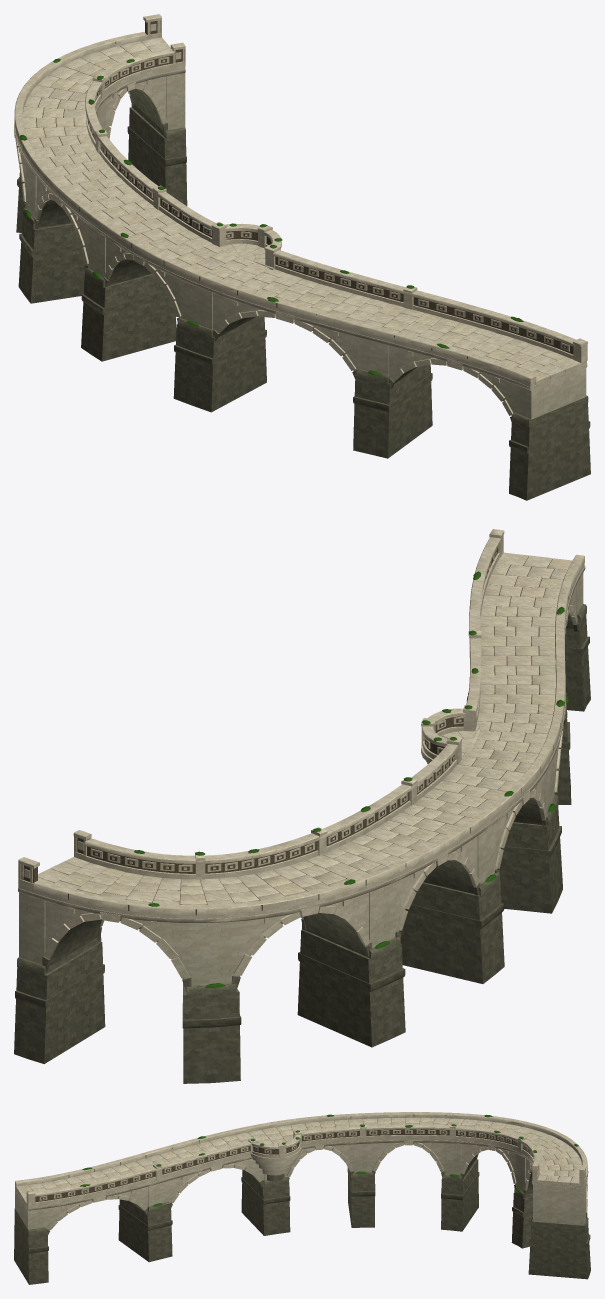
3 views of the same model, one above another, from view 1: azimuth 30°, elevation 25°; view 2: azimuth 150°, elevation 25°; view 3: azimuth 270°, elevation 25° (orthographic). The views are drawn at different scales.
Visible parts, largest first — view 1: Mesh_ViaductLimestone, Mesh_ViaductDampMasonry, Mesh_ViaductCarvedGrout, Mesh_ViaductMossCushions; view 2: Mesh_ViaductLimestone, Mesh_ViaductDampMasonry, Mesh_ViaductCarvedGrout, Mesh_ViaductMossCushions; view 3: Mesh_ViaductLimestone, Mesh_ViaductDampMasonry, Mesh_ViaductCarvedGrout, Mesh_ViaductMossCushions.
Part boxes in pixels (x1,y1,x2,y2): Mesh_ViaductLimestone: [14, 14, 587, 419]; Mesh_ViaductDampMasonry: [16, 88, 590, 500]; Mesh_ViaductCarvedGrout: [17, 21, 573, 370]; Mesh_ViaductMossCushions: [20, 58, 523, 376]; Mesh_ViaductLimestone: [18, 529, 585, 985]; Mesh_ViaductDampMasonry: [14, 604, 590, 1083]; Mesh_ViaductCarvedGrout: [23, 547, 568, 915]; Mesh_ViaductMossCushions: [134, 571, 568, 987]; Mesh_ViaductLimestone: [15, 1112, 588, 1230]; Mesh_ViaductDampMasonry: [14, 1142, 590, 1284]; Mesh_ViaductCarvedGrout: [35, 1114, 573, 1202]; Mesh_ViaductMossCushions: [79, 1114, 578, 1206].
Size of the model in its own units: 11.03 by 6.75 by 32.45.
Materials: 4 (4 with a texture image).
